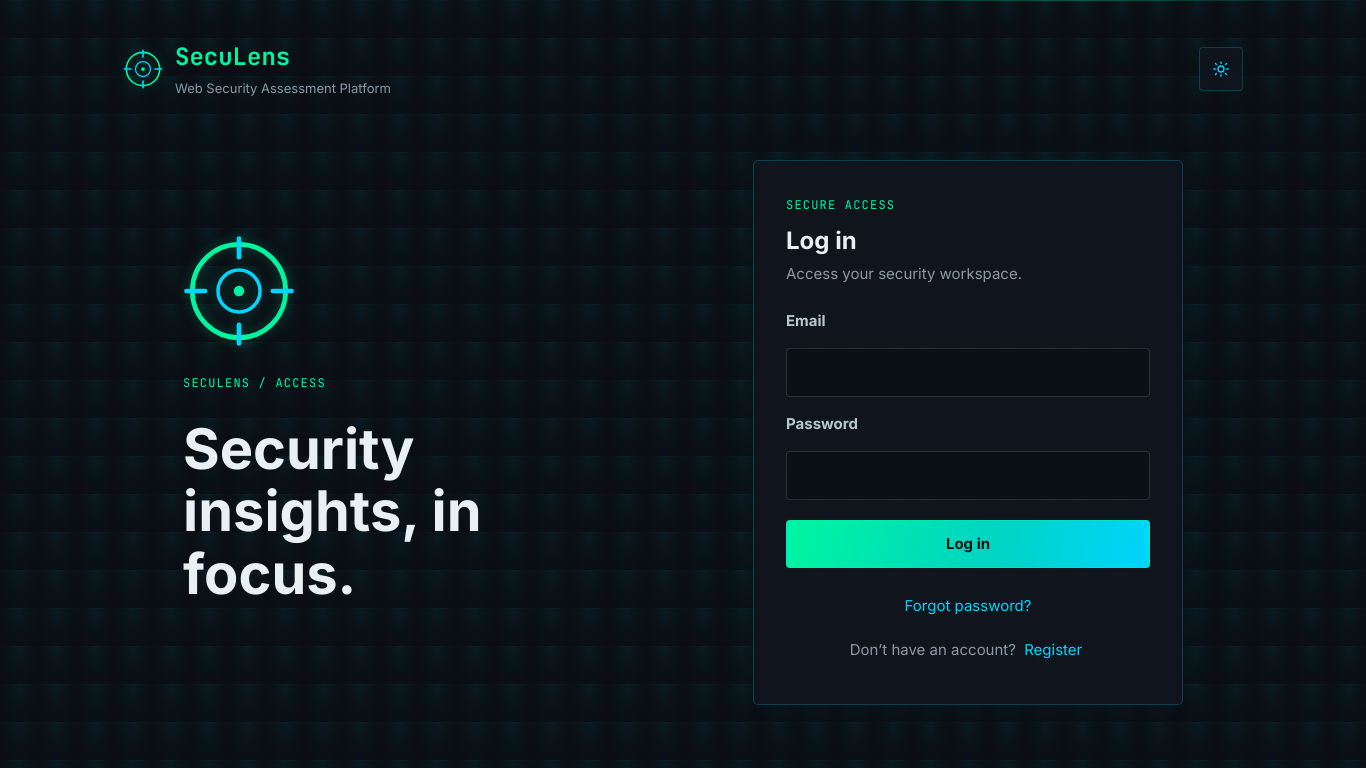
registration logs the user in immediately without a verification screen
Click the button "Register" at (1053,650), box [1020, 628, 1086, 672]
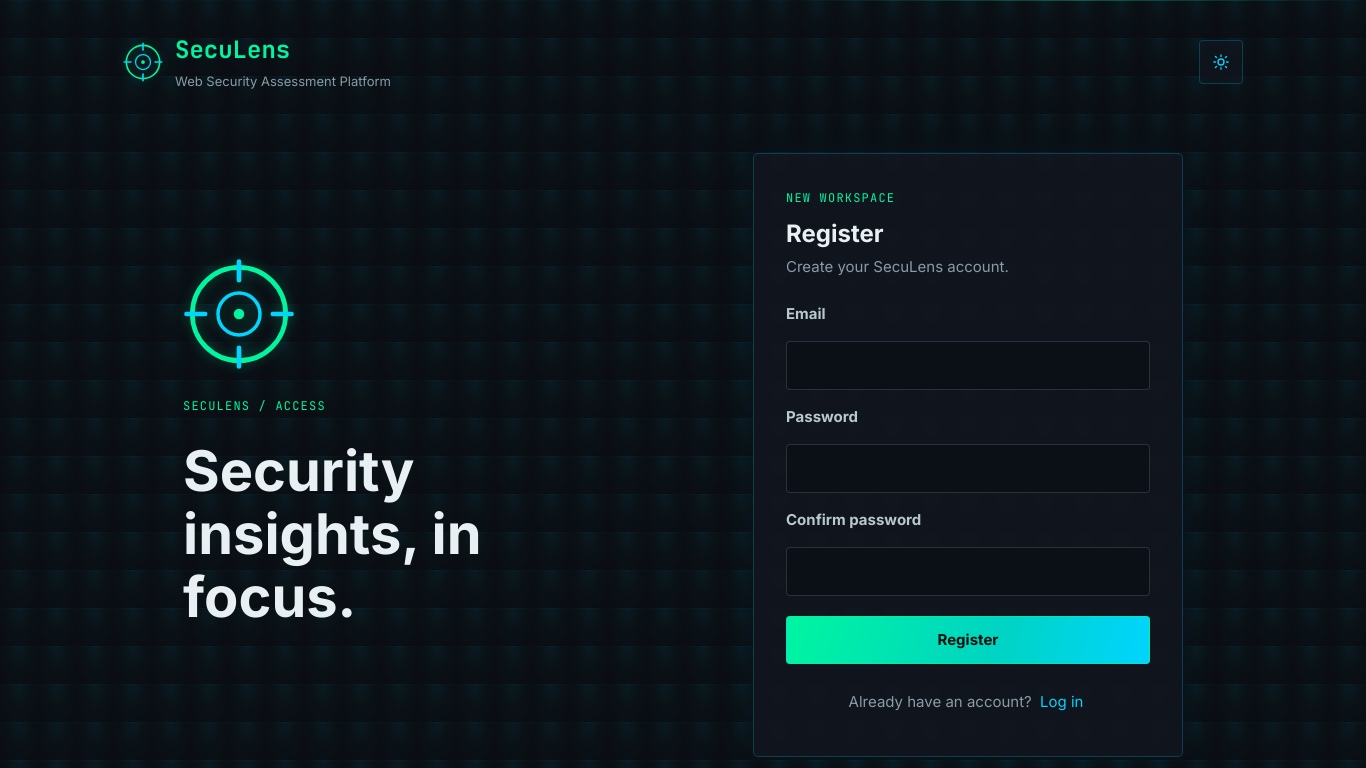
Type "new@example.com" into the field labelled "Email" at (968,366), box [786, 341, 1150, 390]
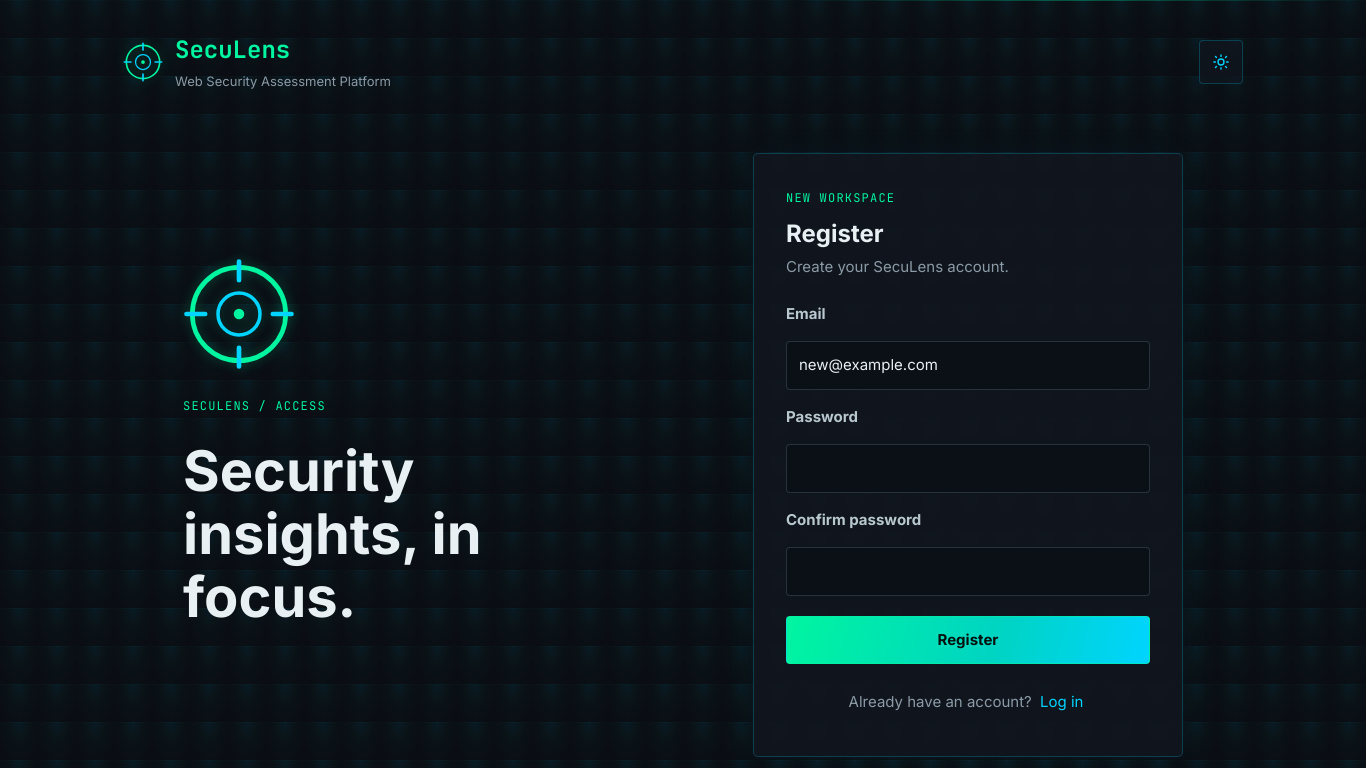
Type "secure-password" into the password field labelled "Password" at (968,469), box [786, 444, 1150, 493]
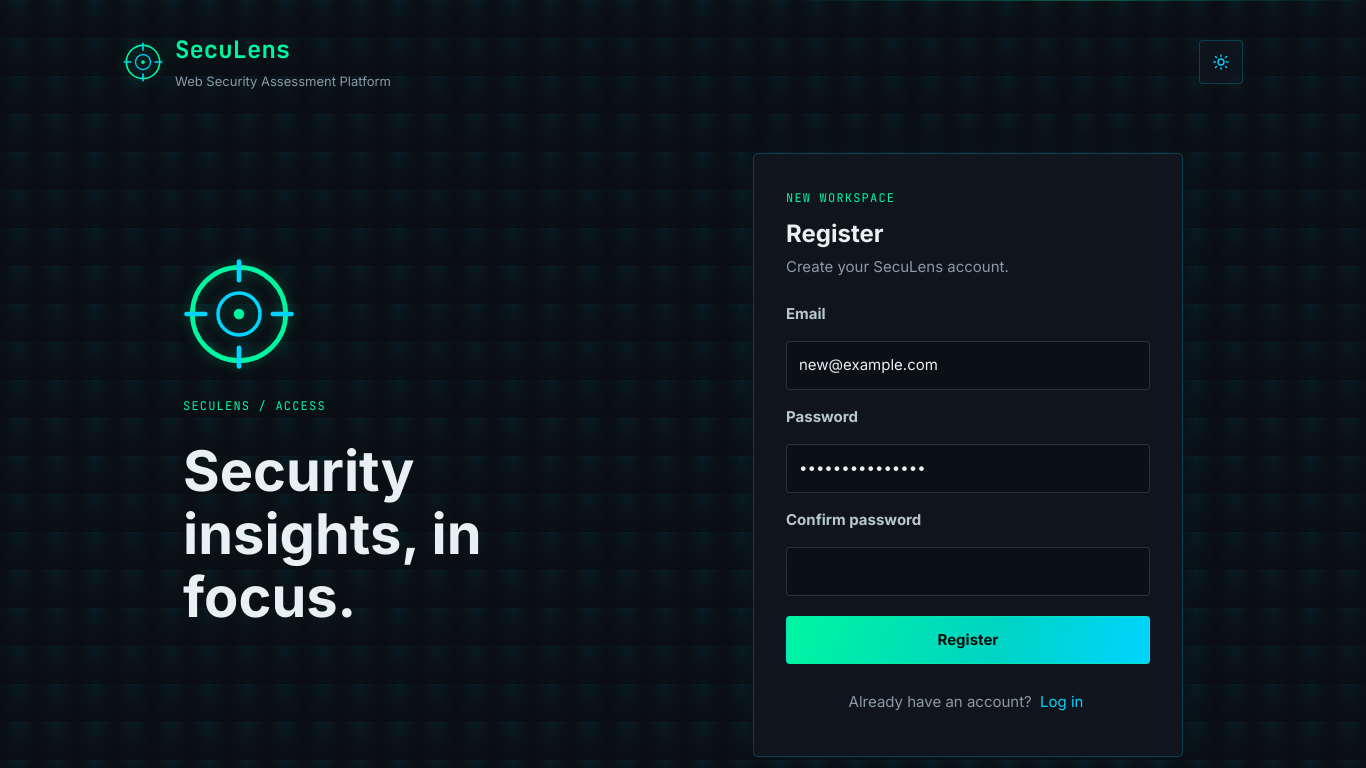
Type "secure-password" into the password field labelled "Confirm password" at (968,572), box [786, 547, 1150, 596]
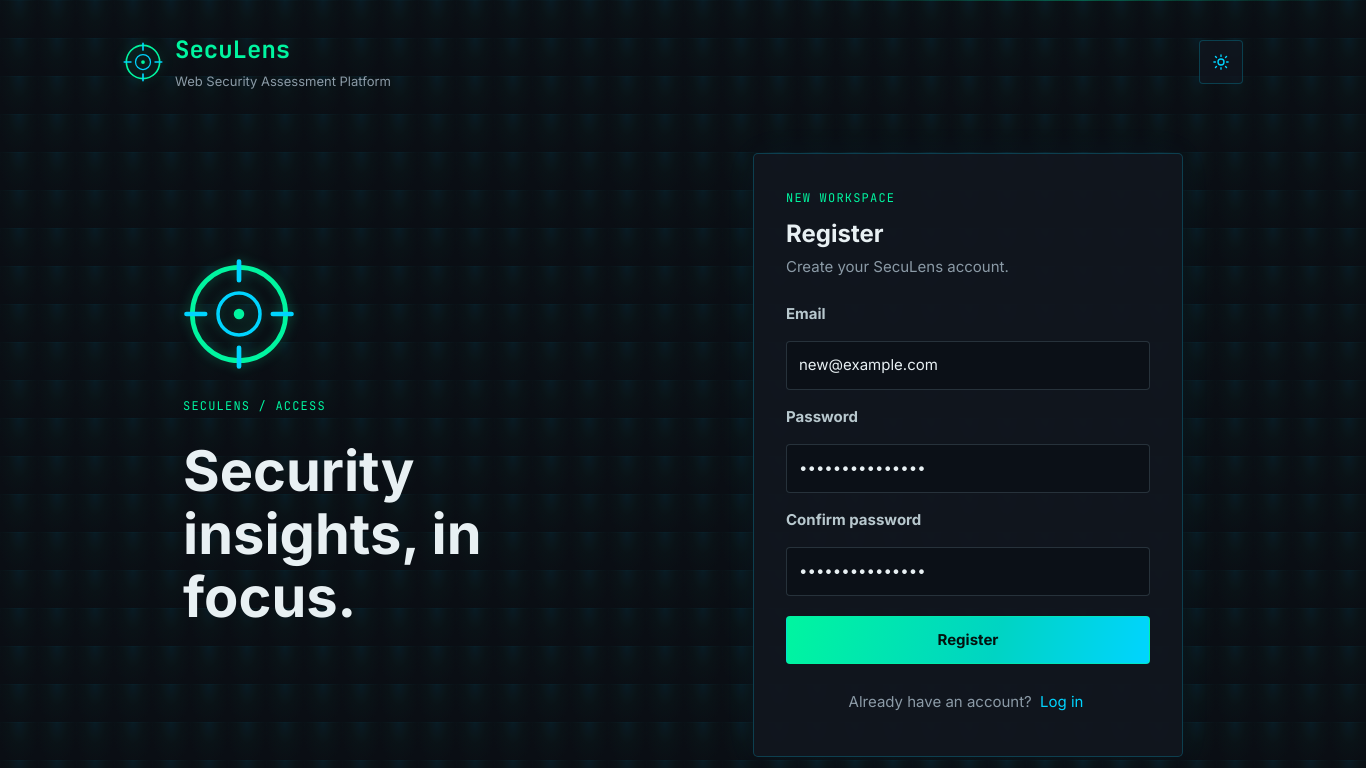
Click the button "Register" at (968,640), box [786, 616, 1150, 664]
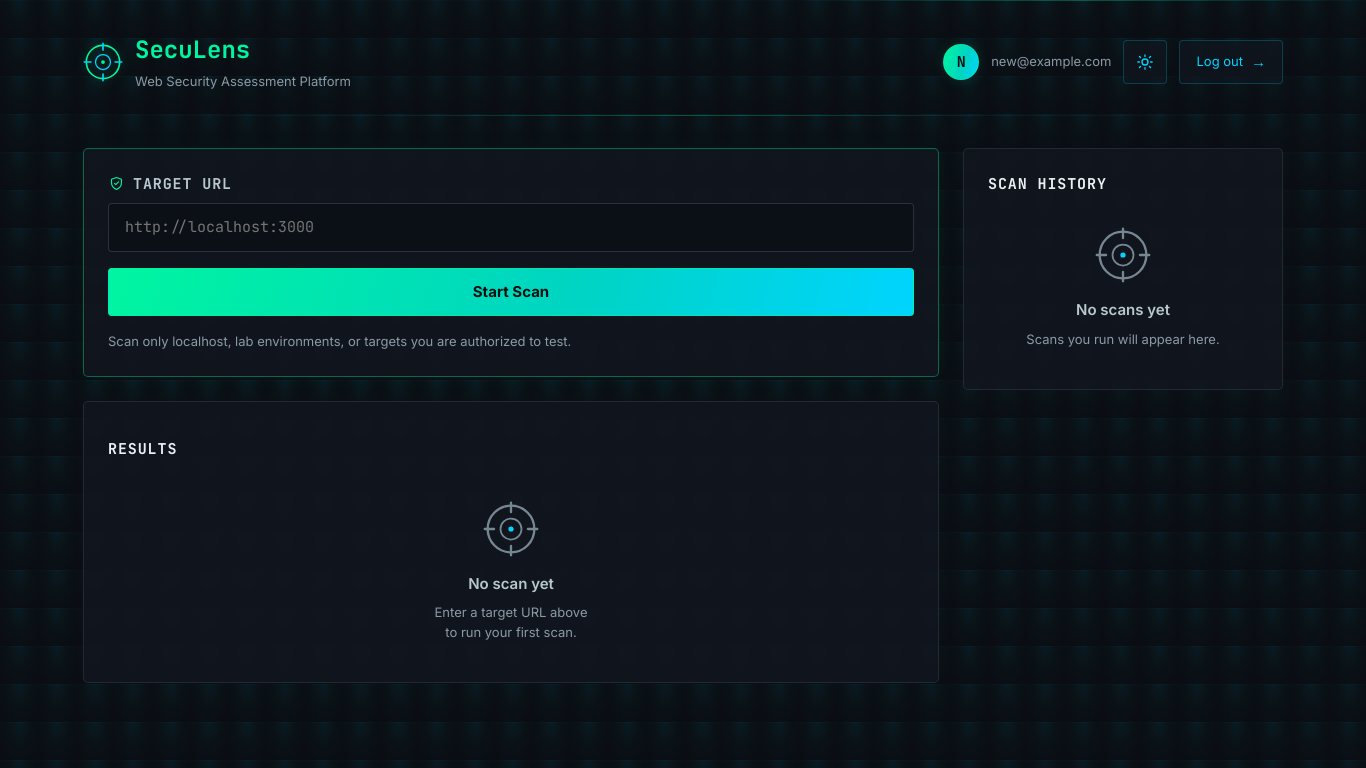
Expected: the button "Log out →" is shown, [1180, 40, 1283, 84]
